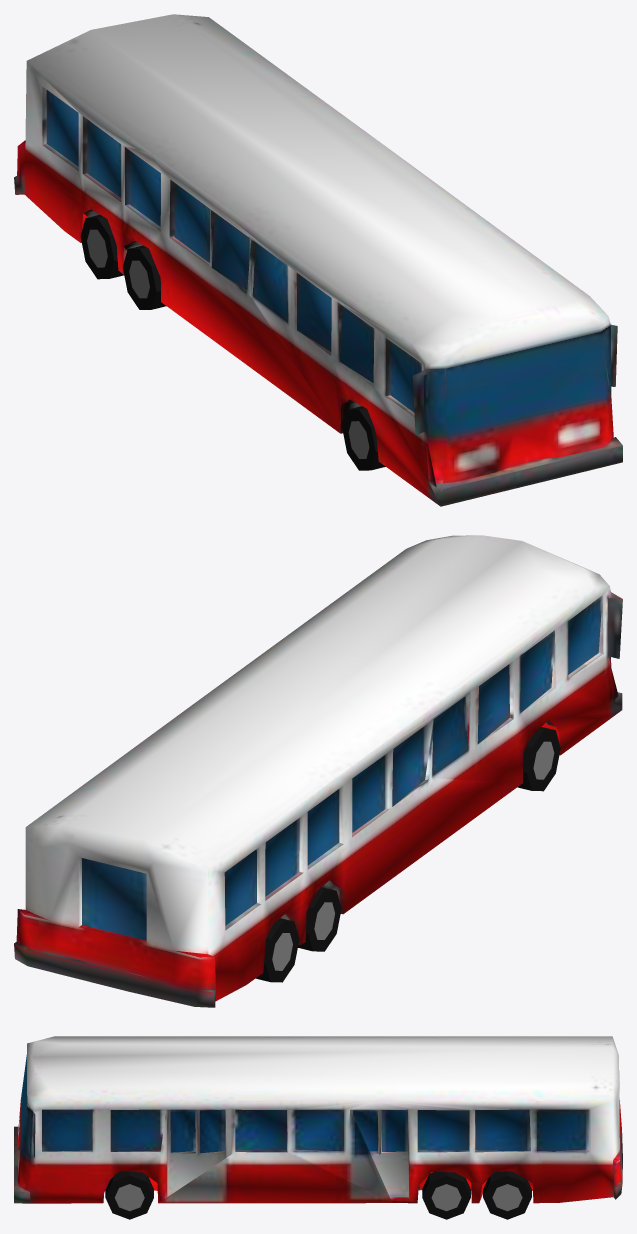
Rendered from bus-far.glb.
3 renders of one model, top to bottom at view 1: azimuth 30°, elevation 25°; view 2: azimuth 150°, elevation 25°; view 3: azimuth 270°, elevation 25°, orthographic. The views are drawn at different scales.
Visible parts, largest first — view 1: bus-far; view 2: bus-far; view 3: bus-far.
Part boxes in pixels (x1=…): bus-far: x1=14, y1=14, x2=622, y2=506; bus-far: x1=14, y1=535, x2=622, y2=1007; bus-far: x1=14, y1=1036, x2=622, y2=1219.
Size of the model in its own units: 2.96 by 2.47 by 10.5.
1 material, 1 textured.
